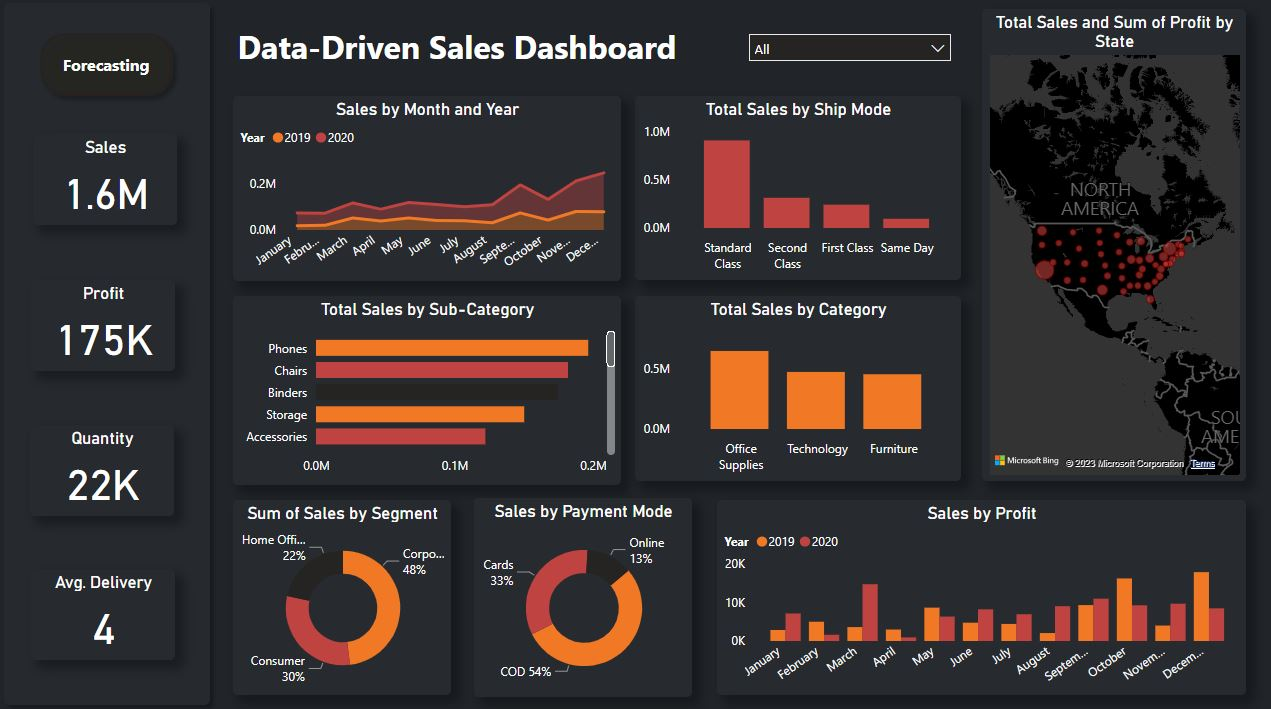

Layout of this report page (visuals, bound fields, positions):
{"tool":"powerbi","page":{"name":"Dashboard","canvas":[1280,720],"ordinal":0},"visuals":[{"type":"shape","box":[0,0,224,720],"z":0},{"type":"columnChart","title":"Total Sales by Category","fields":{"Category":["SuperStore_Sales_Dataset.Category"],"Y":["Sum(SuperStore_Sales_Dataset.Sales)"]},"box":[640,302,326,185],"z":1000},{"type":"clusteredBarChart","title":"Total Sales by Sub-Category","fields":{"Y":["Sum(SuperStore_Sales_Dataset.Sales)"],"Category":["SuperStore_Sales_Dataset.Sub-Category"]},"box":[238,302,388,189],"z":2000},{"type":"columnChart","title":"Total Sales by Ship Mode","fields":{"Y":["Sum(SuperStore_Sales_Dataset.Sales)"],"Category":["SuperStore_Sales_Dataset.Ship Mode"]},"box":[640,102,326,184],"z":3000},{"type":"stackedAreaChart","title":"Sales by Month and Year","fields":{"Y":["Sum(SuperStore_Sales_Dataset.Sales)"],"Category":["SuperStore_Sales_Dataset.Order Date.Variation.Date Hierarchy.Month","SuperStore_Sales_Dataset.Order Date.Variation.Date Hierarchy.Day"],"Series":["SuperStore_Sales_Dataset.Order Date.Variation.Date Hierarchy.Year"]},"box":[238,102,388,185],"z":4000},{"type":"clusteredColumnChart","title":"Sales by Profit","fields":{"Category":["SuperStore_Sales_Dataset.Order Date.Variation.Date Hierarchy.Month","SuperStore_Sales_Dataset.Order Date.Variation.Date Hierarchy.Day"],"Y":["Sum(SuperStore_Sales_Dataset.Profit)"],"Series":["SuperStore_Sales_Dataset.Order Date.Variation.Date Hierarchy.Year"]},"box":[722,506,529,195],"z":5000},{"type":"map","title":"Total Sales and Sum of Profit by State","fields":{"Category":["SuperStore_Sales_Dataset.State"],"Size":["Sum(SuperStore_Sales_Dataset.Sales)"]},"box":[987,15,264,472],"z":6000},{"type":"donutChart","fields":{"Y":["Sum(SuperStore_Sales_Dataset.Sales)"],"Category":["SuperStore_Sales_Dataset.Segment"]},"box":[238,506,218,195],"z":7000},{"type":"donutChart","title":"Sales by Payment Mode","fields":{"Y":["Sum(SuperStore_Sales_Dataset.Sales)"],"Category":["SuperStore_Sales_Dataset.Payment Mode"]},"box":[479,504,218,199],"z":8000},{"type":"slicer","fields":{"Values":["SuperStore_Sales_Dataset.Region"]},"box":[744,30,222,51],"z":9000},{"type":"card","title":"Sales","fields":{"Values":["Sum(SuperStore_Sales_Dataset.Sales)"]},"box":[38,140,144,91],"z":10000},{"type":"card","title":"Profit","fields":{"Values":["Sum(SuperStore_Sales_Dataset.Profit)"]},"box":[36,286,144,91],"z":11000},{"type":"card","title":"Quantity","fields":{"Values":["Sum(SuperStore_Sales_Dataset.Quantity)"]},"box":[35,431,144,91],"z":12000},{"type":"card","title":"Avg. Delivery","fields":{"Values":["Avg(SuperStore_Sales_Dataset.AvgDelivery)"]},"box":[36,575,144,91],"z":13000},{"type":"textbox","box":[238,25,531,61],"z":14000},{"type":"actionButton","title":"hhh","box":[36,30,151,81],"z":15000}]}

Visuals, with their boxes in screenshot pixels (x1, y1, x2, y2), scaled from the page's 1280x720 canvas onto the 1271x709 screenshot:
shape: (0, 0, 222, 708)
"Total Sales by Category" columnChart: (636, 297, 959, 480)
"Total Sales by Sub-Category" clusteredBarChart: (236, 297, 622, 483)
"Total Sales by Ship Mode" columnChart: (636, 100, 959, 282)
"Sales by Month and Year" stackedAreaChart: (236, 100, 622, 283)
"Sales by Profit" clusteredColumnChart: (717, 498, 1242, 690)
"Total Sales and Sum of Profit by State" map: (980, 15, 1242, 480)
donutChart - Sum(SuperStore_Sales_Dataset.Sales) x SuperStore_Sales_Dataset.Segment: (236, 498, 453, 690)
"Sales by Payment Mode" donutChart: (476, 496, 692, 692)
slicer - SuperStore_Sales_Dataset.Region: (739, 30, 959, 80)
"Sales" card: (38, 138, 181, 227)
"Profit" card: (36, 282, 179, 371)
"Quantity" card: (35, 424, 178, 514)
"Avg. Delivery" card: (36, 566, 179, 656)
textbox: (236, 25, 764, 85)
"hhh" actionButton: (36, 30, 186, 109)
